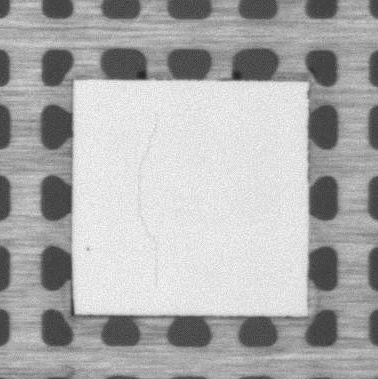DIE_CRACK: (135, 115, 162, 295)
